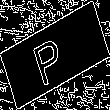P_NW: (35, 25, 75, 85)
